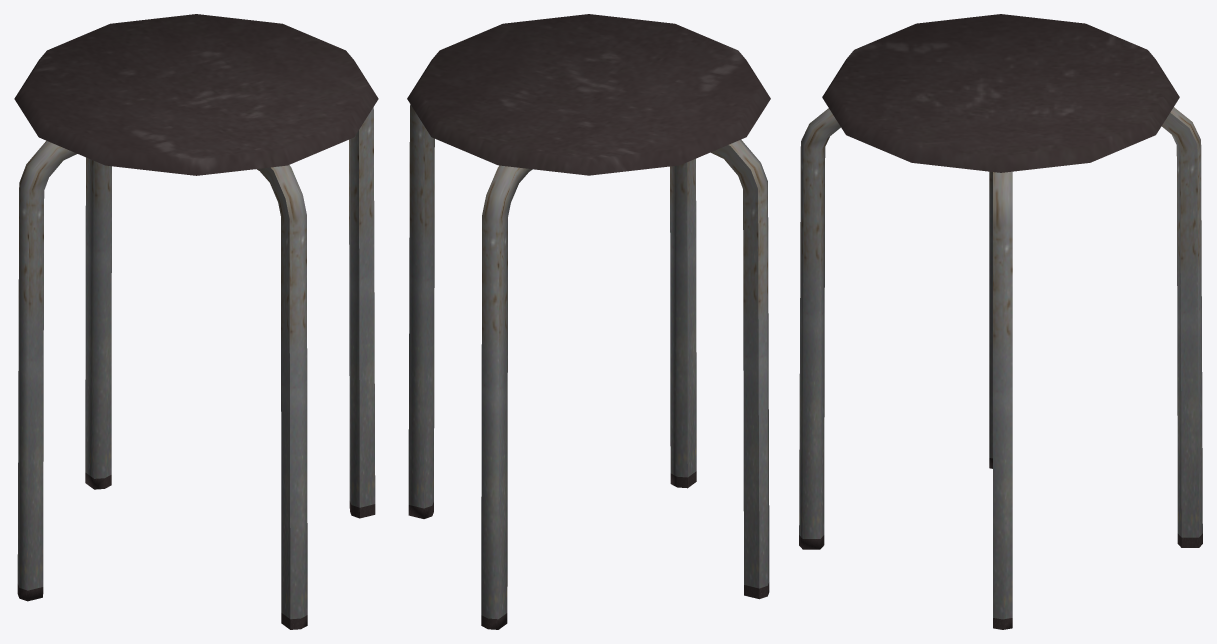
The model's file is chair12.fbx.
The picture shows the model from 3 angles, left to right: view 1: azimuth 30°, elevation 25°; view 2: azimuth 150°, elevation 25°; view 3: azimuth 270°, elevation 25°; orthographic projection.
Parts seen in each view (by area): view 1: chair12; view 2: chair12; view 3: chair12.
Boxes of the visible parts, <box> form: chair12: <box>14,14,378,629</box>; chair12: <box>407,14,770,629</box>; chair12: <box>799,14,1202,629</box>.
Bounding box in the file's own units: 50.45 × 63.28 × 50.45.
